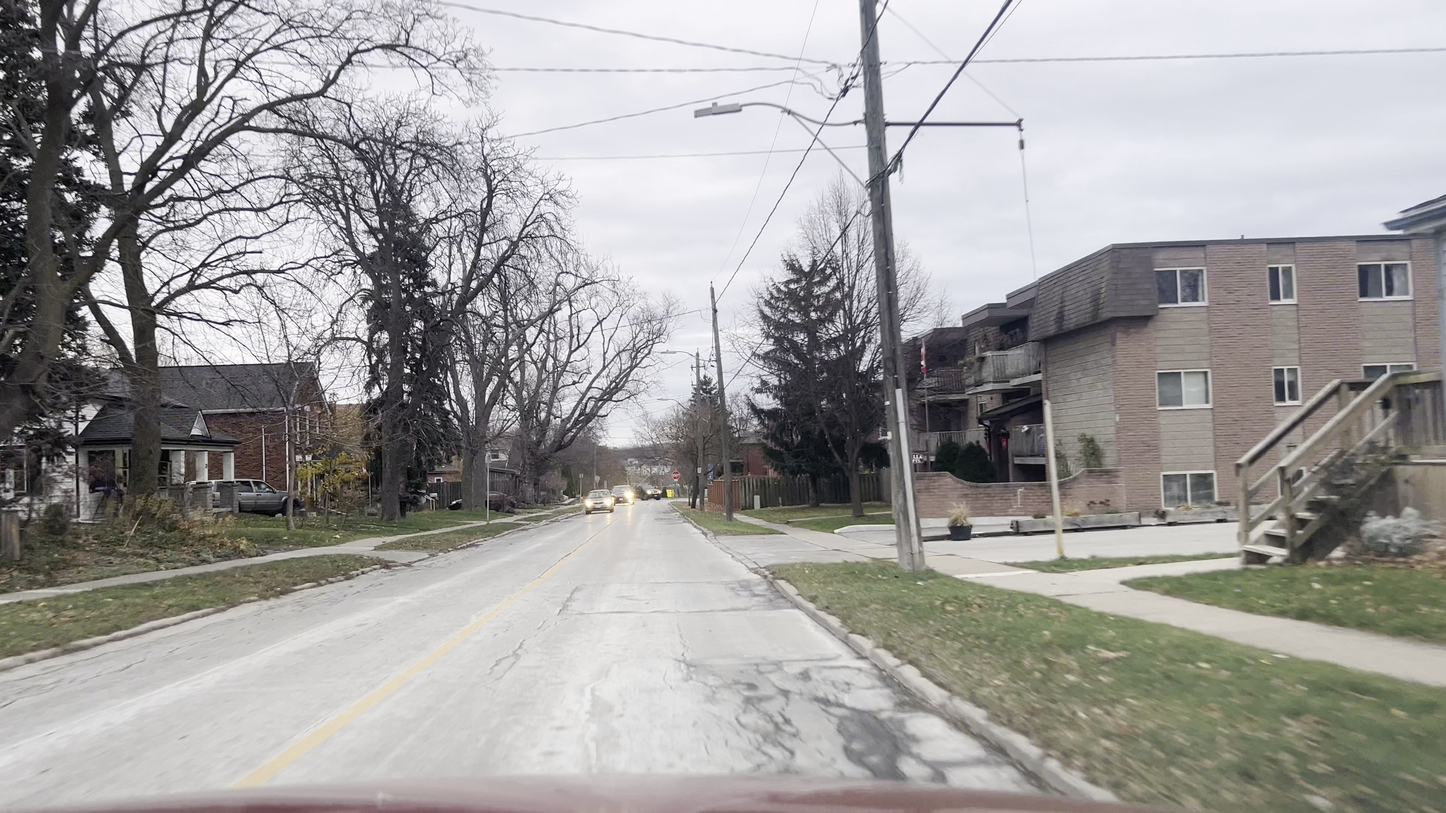cracks: (789, 674, 899, 772), (716, 670, 778, 742)
